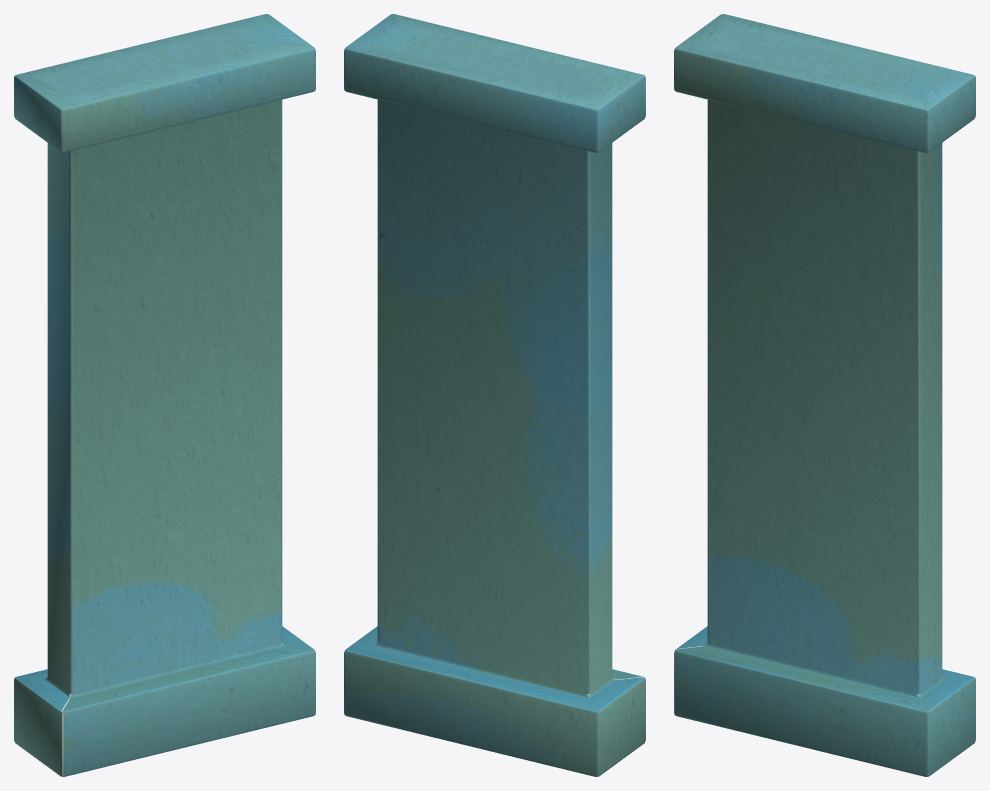
The model's file is TOMB_WALL_1.obj.
The picture shows the model from 3 angles, left to right: view 1: azimuth 30°, elevation 25°; view 2: azimuth 150°, elevation 25°; view 3: azimuth 330°, elevation 25°; orthographic projection.
Parts seen in each view (by area): view 1: TOMB_WALL_1.002; view 2: TOMB_WALL_1.002; view 3: TOMB_WALL_1.002.
Part boxes in pixels (x1=…): TOMB_WALL_1.002: x1=14, y1=14, x2=315, y2=776; TOMB_WALL_1.002: x1=344, y1=14, x2=645, y2=776; TOMB_WALL_1.002: x1=674, y1=14, x2=975, y2=776.
Size of the model in its own units: 1.2 by 3 by 0.4.
